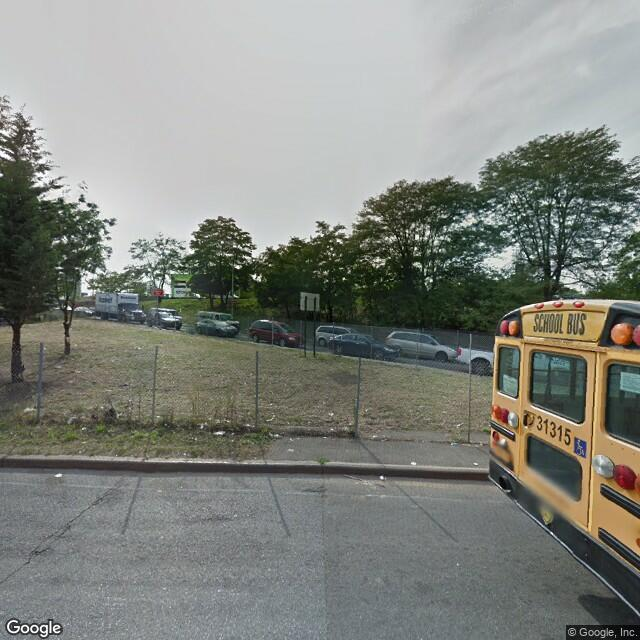litter: (50, 469, 67, 489), (202, 429, 233, 438), (408, 455, 421, 470), (373, 473, 387, 485)
